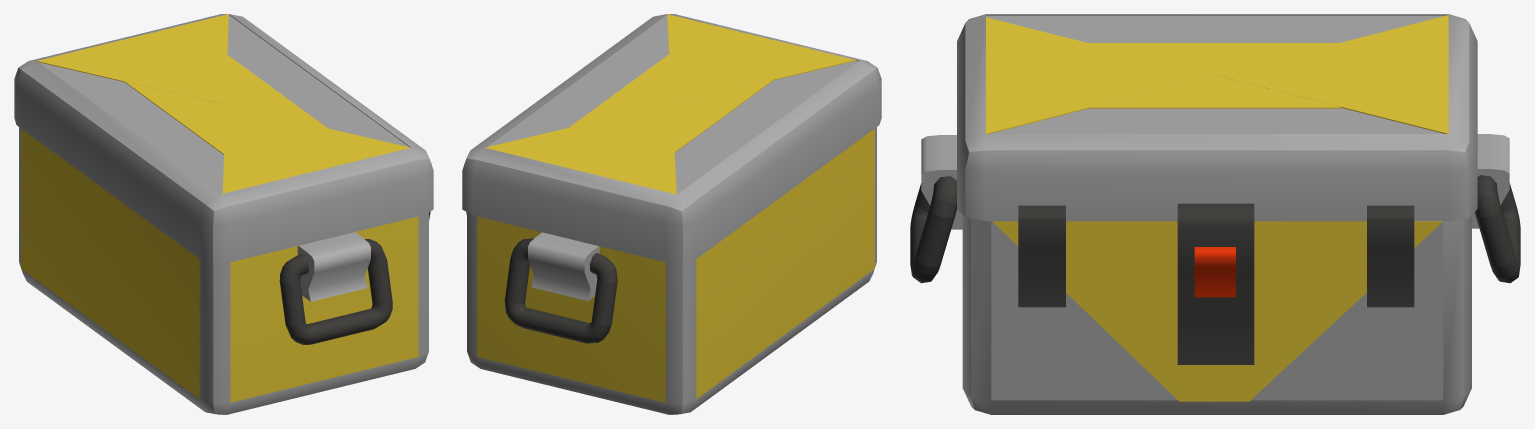
The picture shows the model from 3 angles, left to right: view 1: azimuth 30°, elevation 25°; view 2: azimuth 150°, elevation 25°; view 3: azimuth 270°, elevation 25°; orthographic projection. The views are drawn at different scales.
Visible parts, largest first — view 1: polySurface58; view 2: polySurface58; view 3: polySurface58.
Part boxes in pixels (x1=…): polySurface58: x1=14, y1=14, x2=433, y2=414; polySurface58: x1=462, y1=14, x2=881, y2=414; polySurface58: x1=910, y1=14, x2=1520, y2=414.
Bounding box in the file's own units: 145 × 120 × 235.
